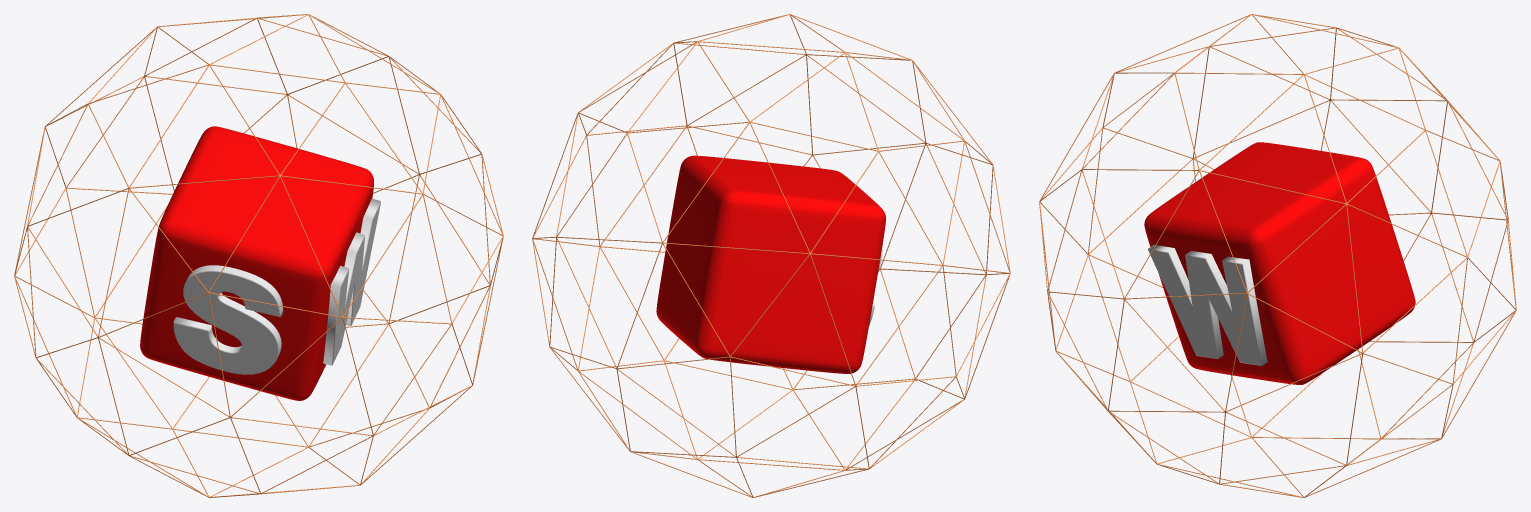
The picture shows the model from 3 angles, left to right: view 1: azimuth 30°, elevation 25°; view 2: azimuth 150°, elevation 25°; view 3: azimuth 270°, elevation 25°; orthographic projection. The views are drawn at different scales.
Parts seen in each view (by area): view 1: Cube, wireframe, Text.001, Text.002; view 2: Cube, wireframe; view 3: Cube, wireframe, Text.002.
Boxes of the visible parts, <box> form: Cube: <box>140,126,373,400</box>; wireframe: <box>14,14,503,497</box>; Text.001: <box>173,265,283,374</box>; Text.002: <box>323,198,380,365</box>; Cube: <box>656,155,885,373</box>; wireframe: <box>532,14,1010,497</box>; Cube: <box>1144,142,1415,384</box>; wireframe: <box>1039,14,1516,497</box>; Text.002: <box>1147,244,1267,365</box>.
Bounding box in the file's own units: 2.58 × 2.57 × 2.63.
